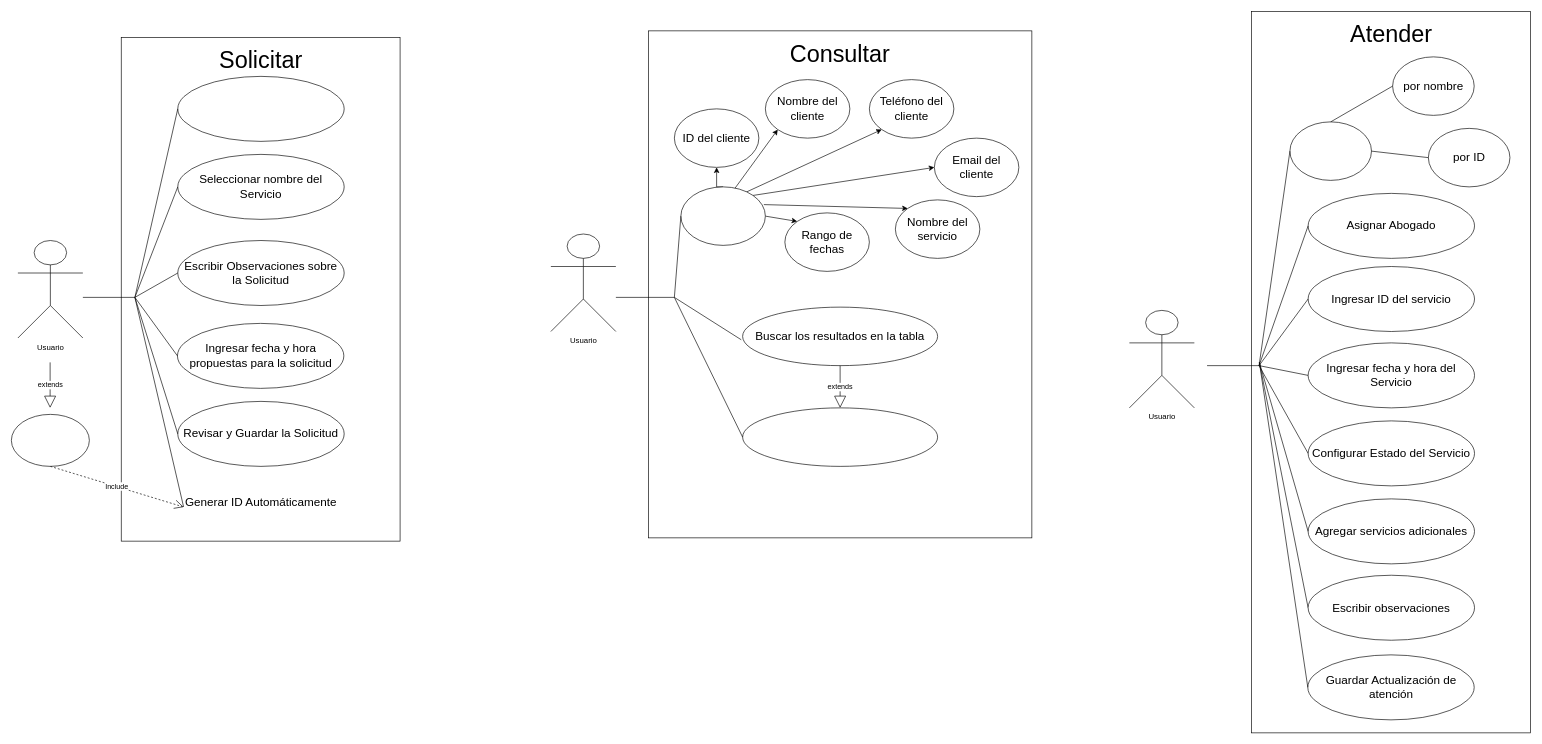
Image size: 1542x744. Some labels were removed from this diagram. Here are the shapes that lost their labels. From the top down, the centre of each, then its label:
At (260,108): "Seleccionar nombre del Cliente".
At (1330,150): "Seleccionar Servicio".
At (722,215): "Filtrar".
At (50,440): "Agregar un cliente nuevo".
At (840,436): "Ver los resultados de cada solicitud".
